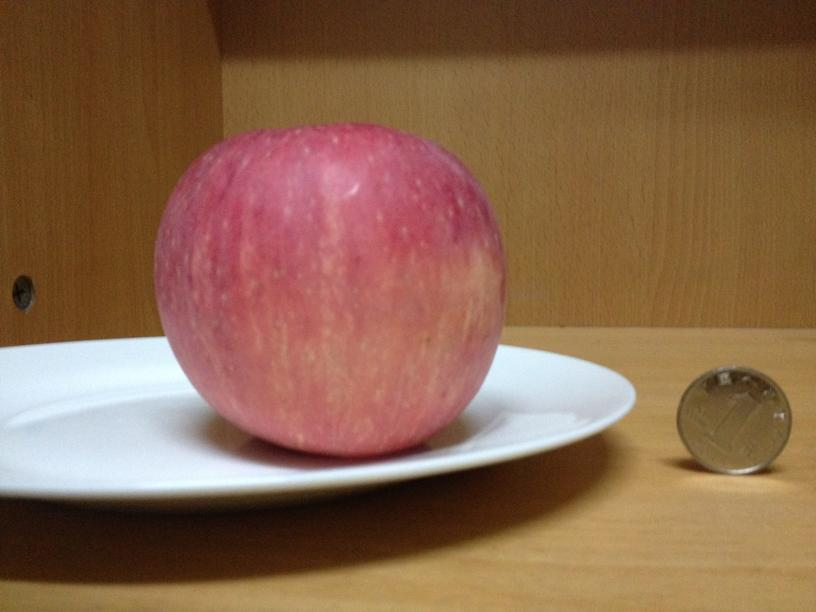apple: (152, 124, 506, 456)
coin: (675, 362, 789, 475)
